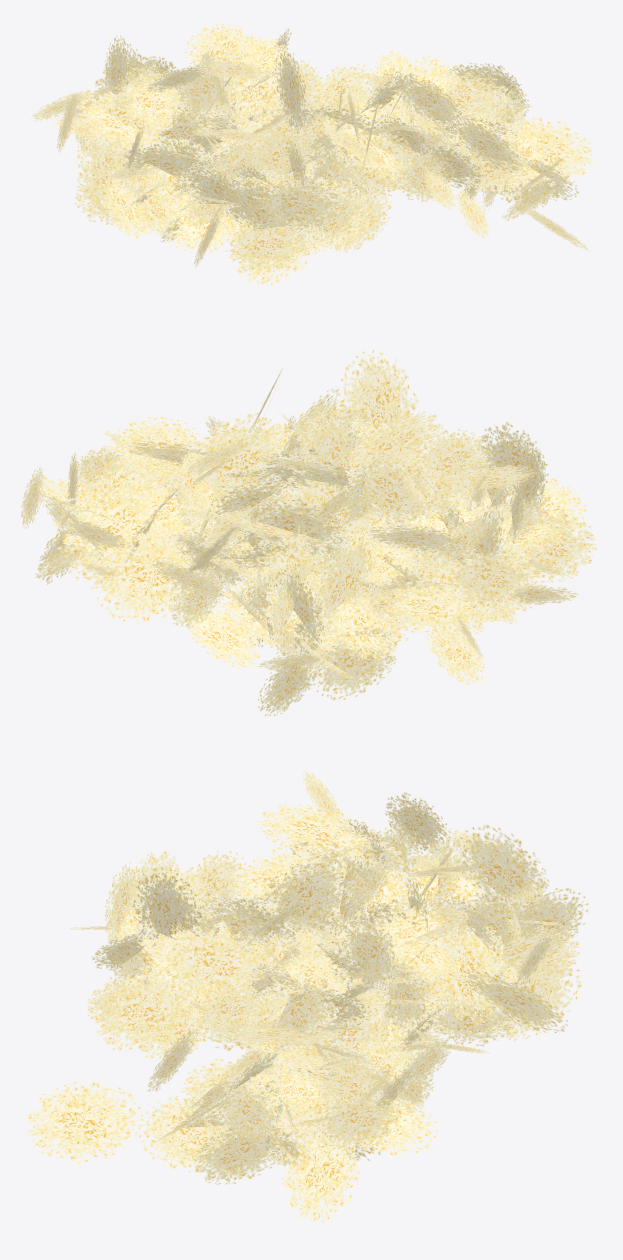
Rendered from holy_canopy.glb.
3 renders of one model, top to bottom at view 1: azimuth 30°, elevation 25°; view 2: azimuth 150°, elevation 25°; view 3: azimuth 270°, elevation 25°, orthographic. The views are drawn at different scales.
Visible parts, largest first — view 1: main; view 2: main; view 3: main.
Boxes of the visible parts, box(x1,y1,x2,y2) form: main: box(30, 24, 592, 285); main: box(20, 349, 596, 715); main: box(26, 771, 588, 1222).
Size of the model in its own units: 34.94 by 15.96 by 32.46.
Materials: 1 (1 with a texture image).
